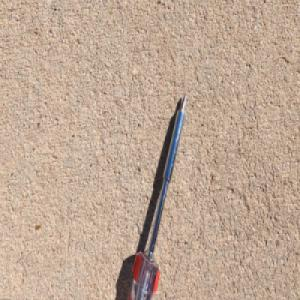Screwdriver: (120, 88, 187, 300)
